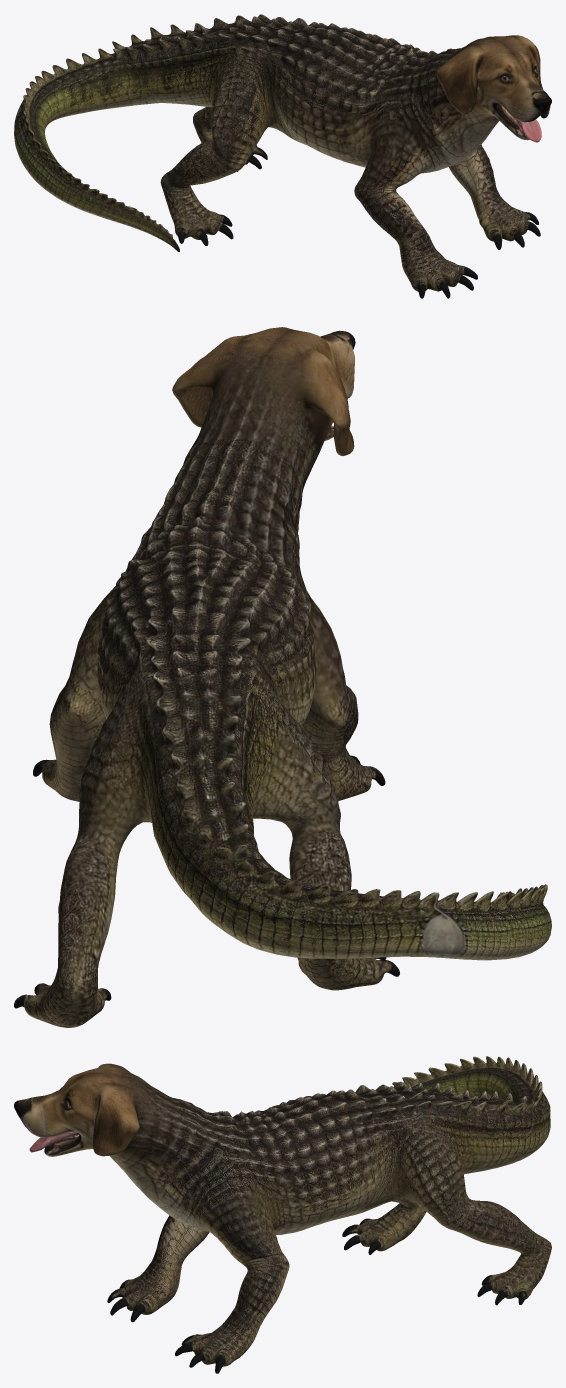
File: crocodog.glb
3 renders of one model, top to bottom at view 1: azimuth 30°, elevation 25°; view 2: azimuth 150°, elevation 25°; view 3: azimuth 270°, elevation 25°, orthographic. The views are drawn at different scales.
Size of the model in its own units: 1.71 by 0.9973 by 1.9.
Materials: 1 (1 with a texture image).
